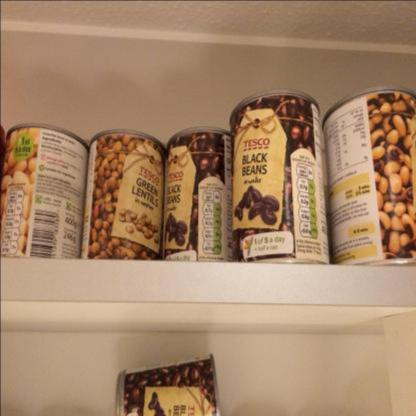Can: (229, 89, 330, 265), (320, 85, 416, 266), (0, 122, 89, 259), (80, 129, 167, 261), (163, 126, 232, 261), (115, 353, 222, 415)
